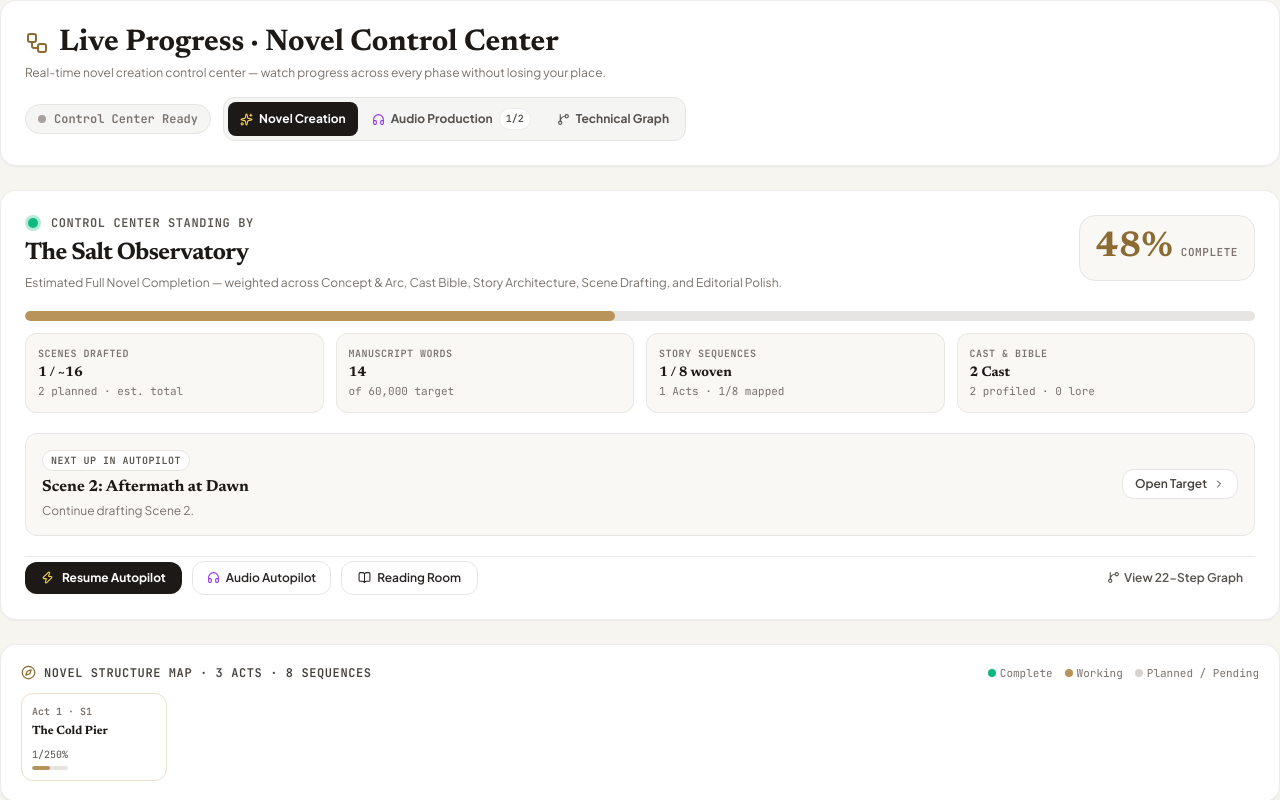
Test: Phase 5F: WriterView and PipelineView › renders PipelineView across Novel Creation, Audio Production, and Technical Graph modes
The width and height of the screenshot is (1280, 800).
Later steps or results of the test are not shown.
Step 1. Click the button "Resume Autopilot" → (103, 578), box left=25, top=562, right=182, bottom=594
Step 2. Click the button "Audio Production 1/2" → (451, 119), box left=360, top=102, right=543, bottom=136
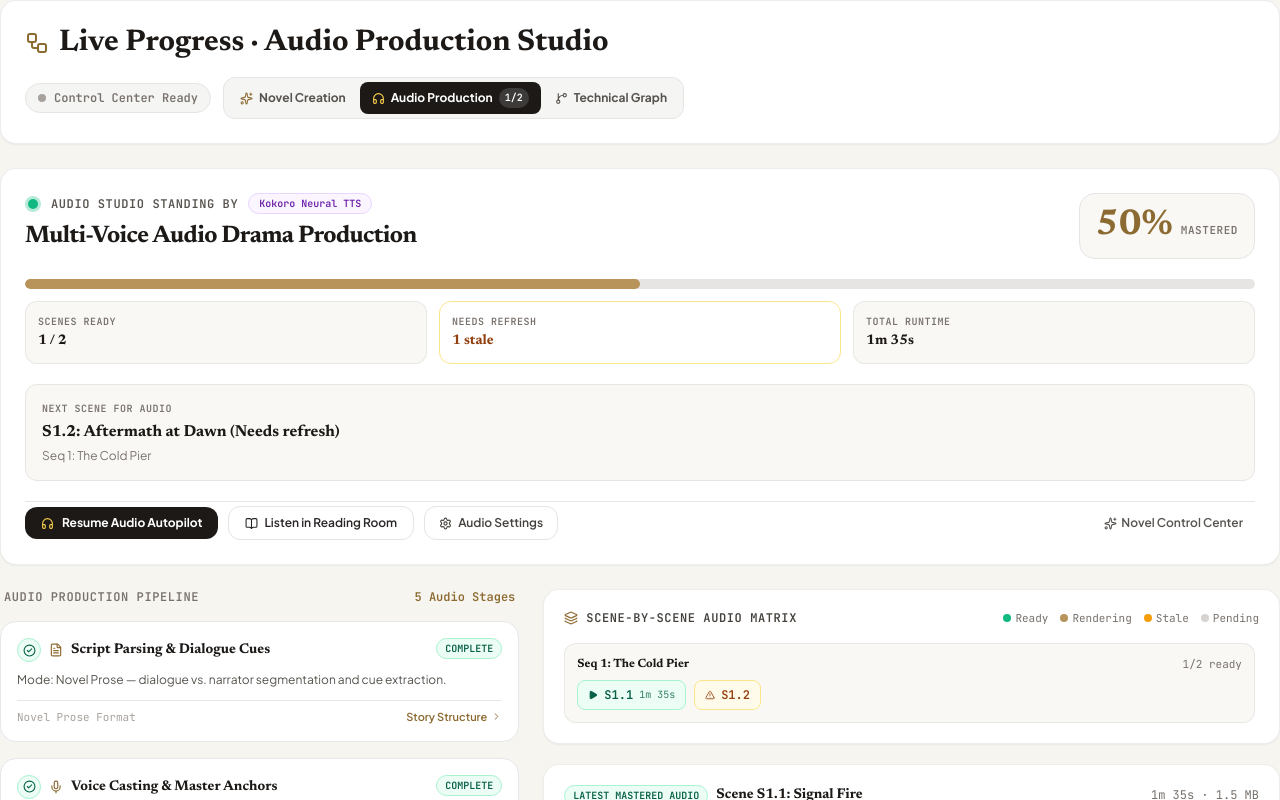
expect the text "Multi-Voice Audio Drama Production" is shown: met, box left=25, top=224, right=417, bottom=248
expect the text "Kokoro Neural TTS" is shown: met, box left=248, top=193, right=372, bottom=214
Step 3. Click the button "S1.1 1m 35s" → (632, 694), box left=577, top=680, right=686, bottom=710
Step 4. Click the button "Technical Graph" → (611, 98), box left=543, top=82, right=679, bottom=114
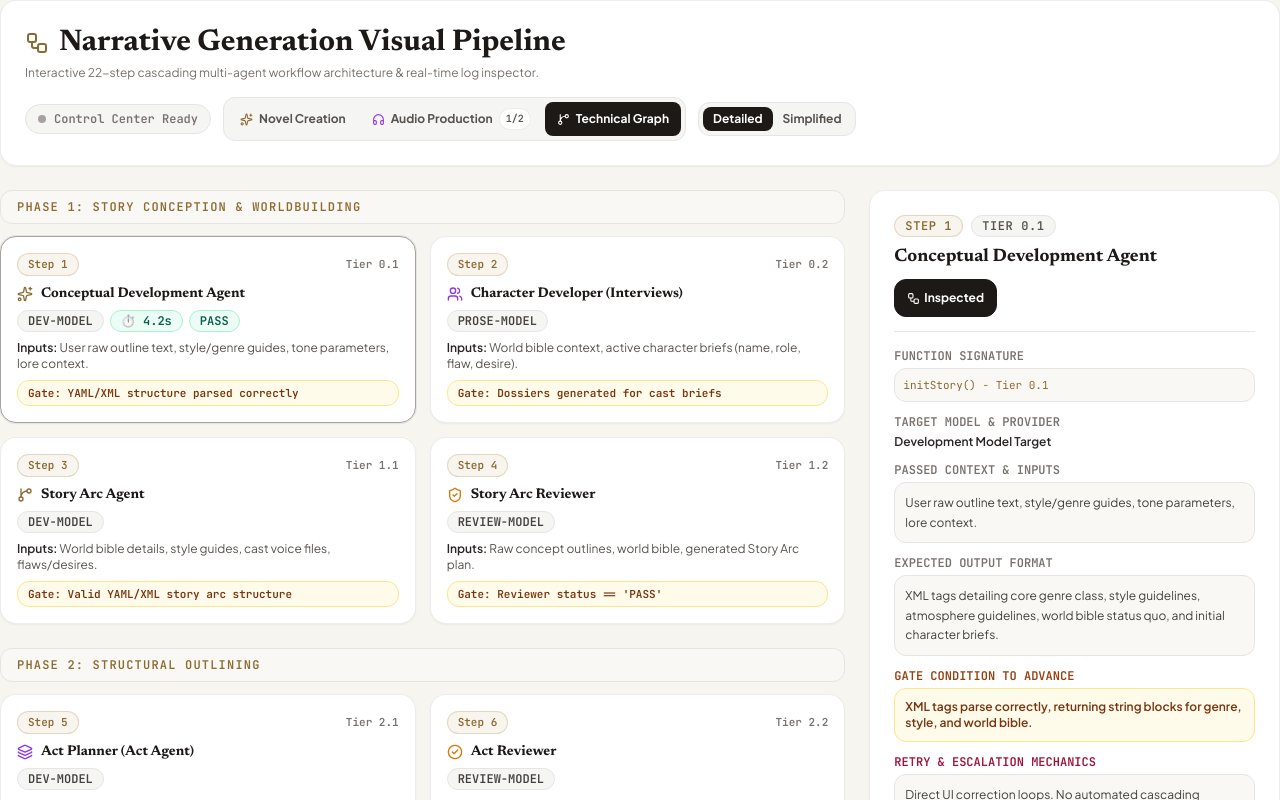
expect the text "Conceptual Development Agent" is shown: met, box left=41, top=284, right=245, bottom=304
expect the text "Story Arc Reviewer" is shown: met, box left=471, top=484, right=596, bottom=504
Step 5. Click the button "Simplified" → (812, 119), box left=773, top=107, right=852, bottom=131
(page scrolled)
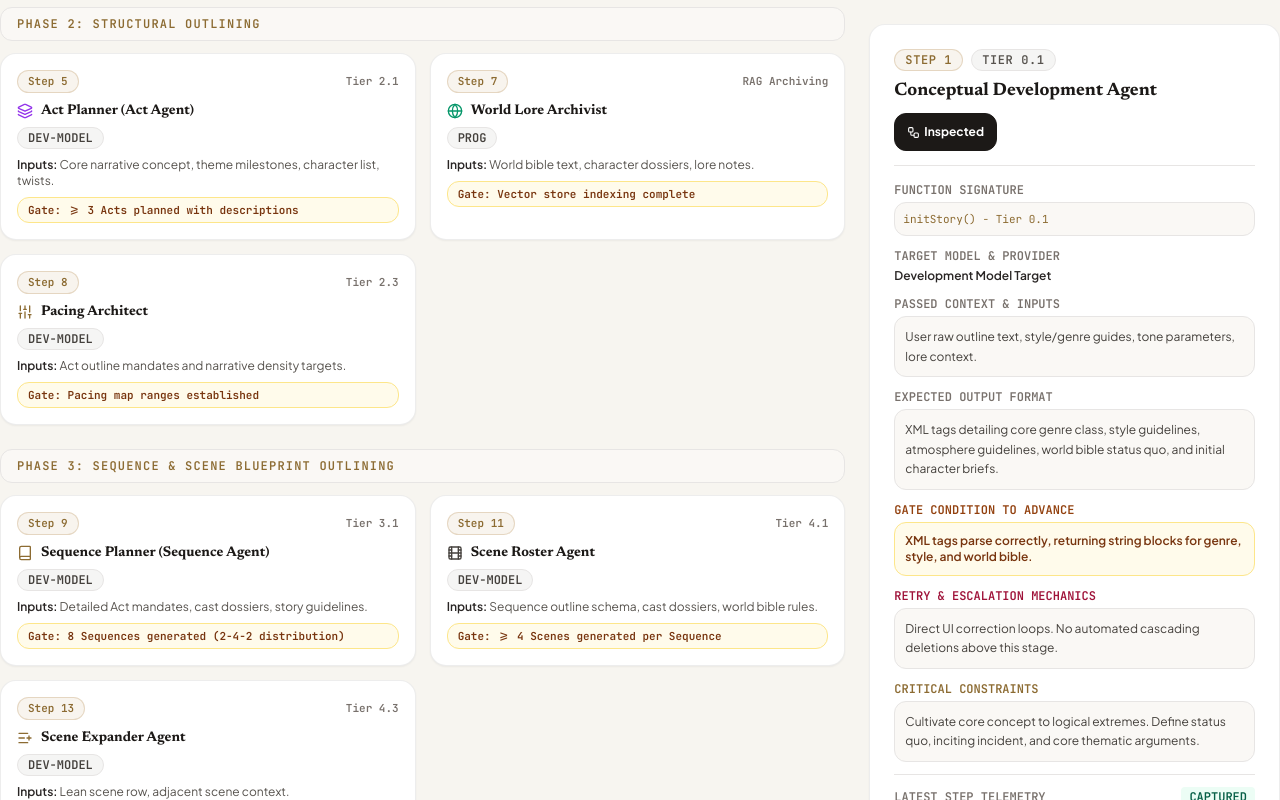
expect the text "Story Arc Reviewer" is gone: met
